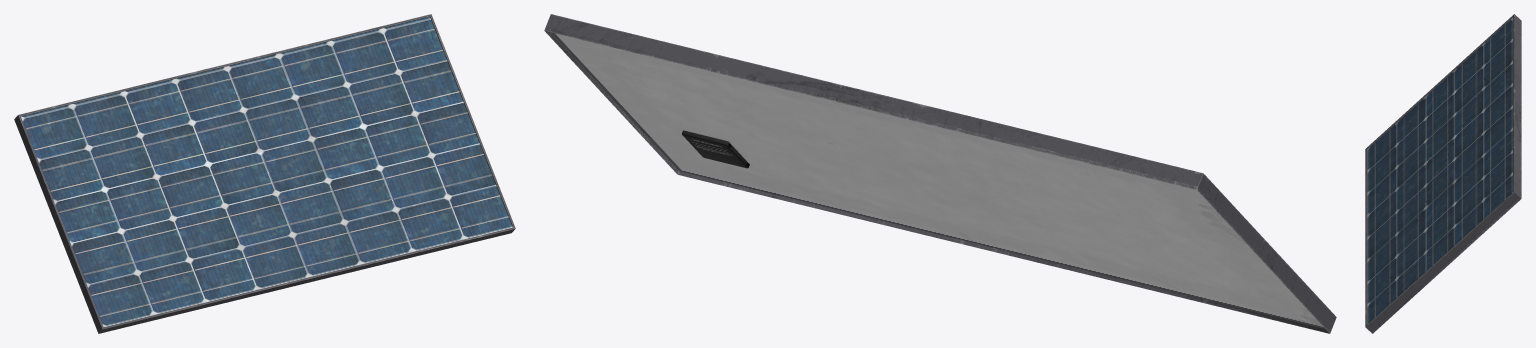
The model's file is solar.fbx.
3 views of the same model, side by side, from view 1: azimuth 30°, elevation 25°; view 2: azimuth 150°, elevation 25°; view 3: azimuth 270°, elevation 25° (orthographic). The views are drawn at different scales.
Parts seen in each view (by area): view 1: SolarPanel; view 2: SolarPanel; view 3: SolarPanel.
Boxes of the visible parts, x1=… form: SolarPanel: x1=14, y1=14, x2=515, y2=333; SolarPanel: x1=544, y1=14, x2=1336, y2=333; SolarPanel: x1=1365, y1=14, x2=1521, y2=333.
Bounding box in the file's own units: 165 × 61.32 × 61.32.
